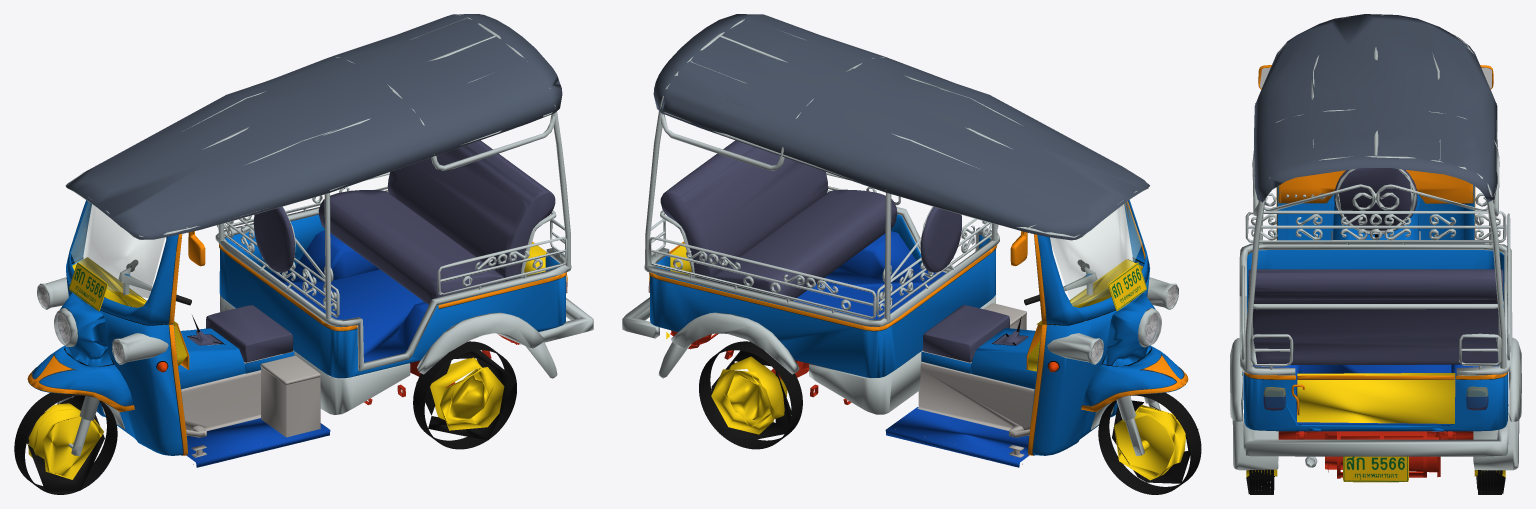
File: tuktuk.lite.glb
3 renders of one model, left to right at view 1: azimuth 30°, elevation 25°; view 2: azimuth 150°, elevation 25°; view 3: azimuth 270°, elevation 25°, orthographic. The views are drawn at different scales.
Visible parts, largest first — view 1: roof, boot door hook, driver seat, dashboard controls, driver floor sheet, boot door, battery box, mud flaps, headlight housing, boot door lock, licence plate front, front body welding (+1 smaller); view 2: roof, boot door hook, driver seat, dashboard controls, boot door, driver floor sheet, mud flaps, battery box, headlight housing, boot door lock, licence plate front, front body welding (+1 smaller); view 3: roof, dashboard controls, driver seat, boot door hook, boot door, boot door lock, chassis, driver floor sheet, licence plate front, mud flaps, tail light.
Boxes of the visible parts, x1=… form: roof: x1=65, y1=14, x2=562, y2=239; boot door hook: x1=28, y1=200, x2=566, y2=455; driver seat: x1=188, y1=140, x2=555, y2=362; dashboard controls: x1=37, y1=14, x2=593, y2=456; driver floor sheet: x1=186, y1=230, x2=428, y2=467; boot door: x1=28, y1=242, x2=546, y2=479; battery box: x1=181, y1=344, x2=320, y2=457; mud flaps: x1=14, y1=341, x2=516, y2=494; headlight housing: x1=38, y1=202, x2=164, y2=362; boot door lock: x1=27, y1=229, x2=566, y2=455; licence plate front: x1=69, y1=262, x2=107, y2=311; front body welding: x1=31, y1=231, x2=566, y2=455; roof: x1=653, y1=14, x2=1149, y2=240; boot door hook: x1=650, y1=200, x2=1186, y2=455; driver seat: x1=660, y1=140, x2=1028, y2=362; dashboard controls: x1=622, y1=19, x2=1178, y2=455; boot door: x1=666, y1=243, x2=1185, y2=480; driver floor sheet: x1=793, y1=231, x2=1029, y2=467; mud flaps: x1=699, y1=341, x2=1201, y2=494; battery box: x1=917, y1=303, x2=1034, y2=457; headlight housing: x1=1050, y1=202, x2=1177, y2=362; boot door lock: x1=649, y1=201, x2=1188, y2=455; licence plate front: x1=1108, y1=262, x2=1146, y2=310; front body welding: x1=649, y1=206, x2=1184, y2=455; roof: x1=1254, y1=14, x2=1497, y2=202; dashboard controls: x1=1230, y1=15, x2=1521, y2=470; driver seat: x1=1248, y1=168, x2=1503, y2=364; boot door hook: x1=1243, y1=185, x2=1508, y2=431; boot door: x1=1246, y1=373, x2=1505, y2=477; boot door lock: x1=1244, y1=65, x2=1507, y2=415; chassis: x1=1278, y1=431, x2=1473, y2=478; driver floor sheet: x1=1253, y1=364, x2=1498, y2=424; licence plate front: x1=1343, y1=456, x2=1408, y2=482; mud flaps: x1=1246, y1=469, x2=1505, y2=494; tail light: x1=1263, y1=386, x2=1488, y2=410.
Size of the model in its own units: 3.03 by 1.95 by 1.36.
Materials: 22 (4 with a texture image).
